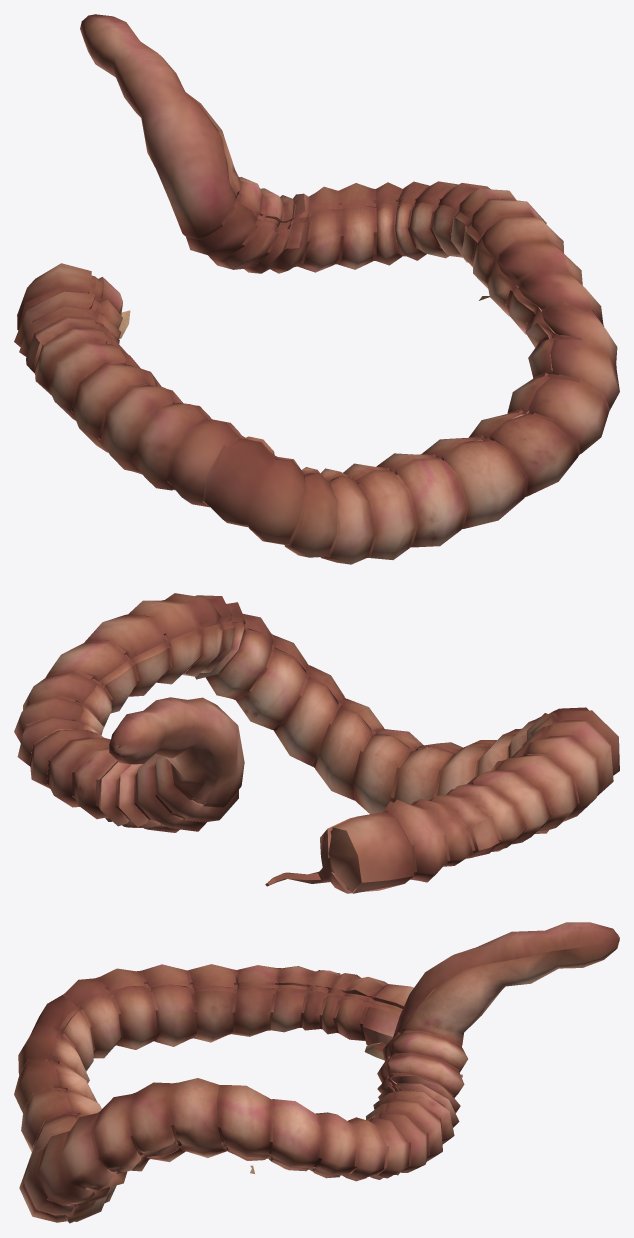
3 renders of one model, top to bottom at view 1: azimuth 30°, elevation 25°; view 2: azimuth 150°, elevation 25°; view 3: azimuth 270°, elevation 25°, orthographic. The views are drawn at different scales.
Parts seen in each view (by area): view 1: DigestiveSystem001_Digestive_System_0_0; view 2: DigestiveSystem001_Digestive_System_0_0; view 3: DigestiveSystem001_Digestive_System_0_0.
Boxes of the visible parts, bbox=[...] form: DigestiveSystem001_Digestive_System_0_0: bbox=[14, 14, 619, 564]; DigestiveSystem001_Digestive_System_0_0: bbox=[14, 593, 619, 893]; DigestiveSystem001_Digestive_System_0_0: bbox=[14, 922, 619, 1223].
Size of the model in its own units: 22.71 by 13.83 by 27.22.
Materials: 1 (1 with a texture image).
